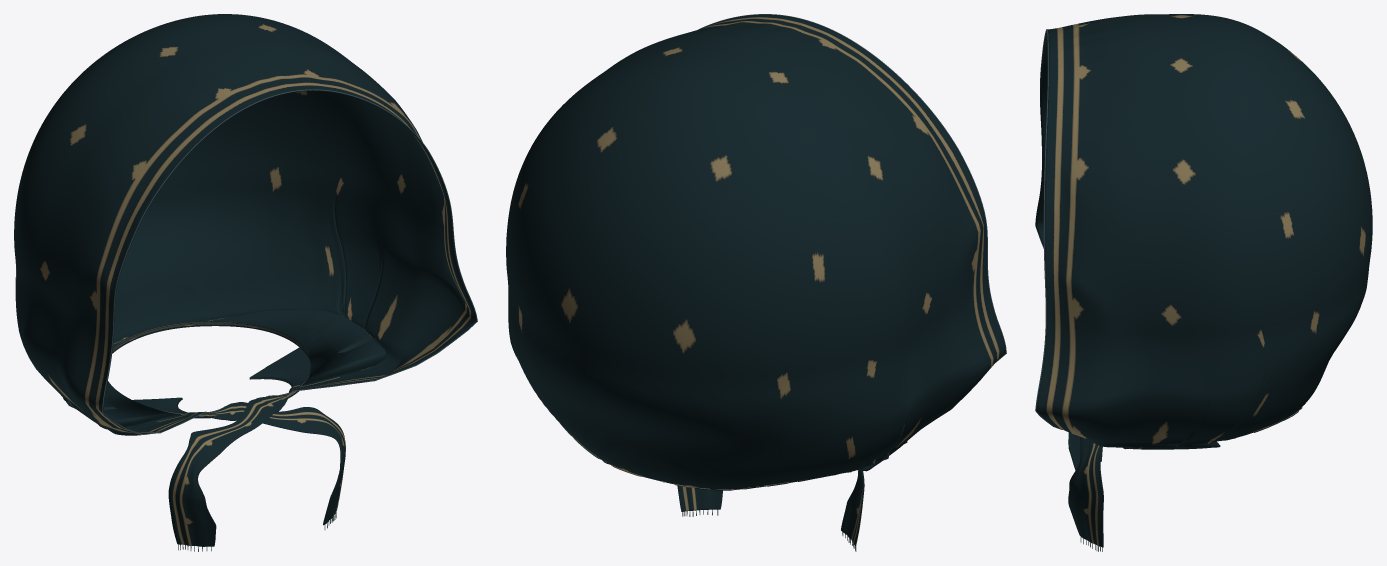
Rendered from Feminine-Feminine-curls-jersey-pashmina250-headgear-52d0b367.glb.
The picture shows the model from 3 angles, left to right: view 1: azimuth 30°, elevation 25°; view 2: azimuth 150°, elevation 25°; view 3: azimuth 270°, elevation 25°; orthographic projection. The views are drawn at different scales.
Parts seen in each view (by area): view 1: 226 headgear / Headwear / continuous woven pashmina239, 226 headgear / Headwear / face edge239; view 2: 226 headgear / Headwear / continuous woven pashmina239, 226 headgear / Headwear / face edge239; view 3: 226 headgear / Headwear / continuous woven pashmina239, 226 headgear / Headwear / face edge239.
Boxes of the visible parts, x1=… form: 226 headgear / Headwear / continuous woven pashmina239: x1=14, y1=14, x2=477, y2=546; 226 headgear / Headwear / face edge239: x1=102, y1=89, x2=477, y2=433; 226 headgear / Headwear / continuous woven pashmina239: x1=506, y1=14, x2=1006, y2=545; 226 headgear / Headwear / face edge239: x1=698, y1=14, x2=1006, y2=362; 226 headgear / Headwear / continuous woven pashmina239: x1=1035, y1=14, x2=1372, y2=547; 226 headgear / Headwear / face edge239: x1=1035, y1=29, x2=1062, y2=429.
Bounding box in the file's own units: 1.21 × 1.43 × 0.9091.
3 materials, 1 textured.
